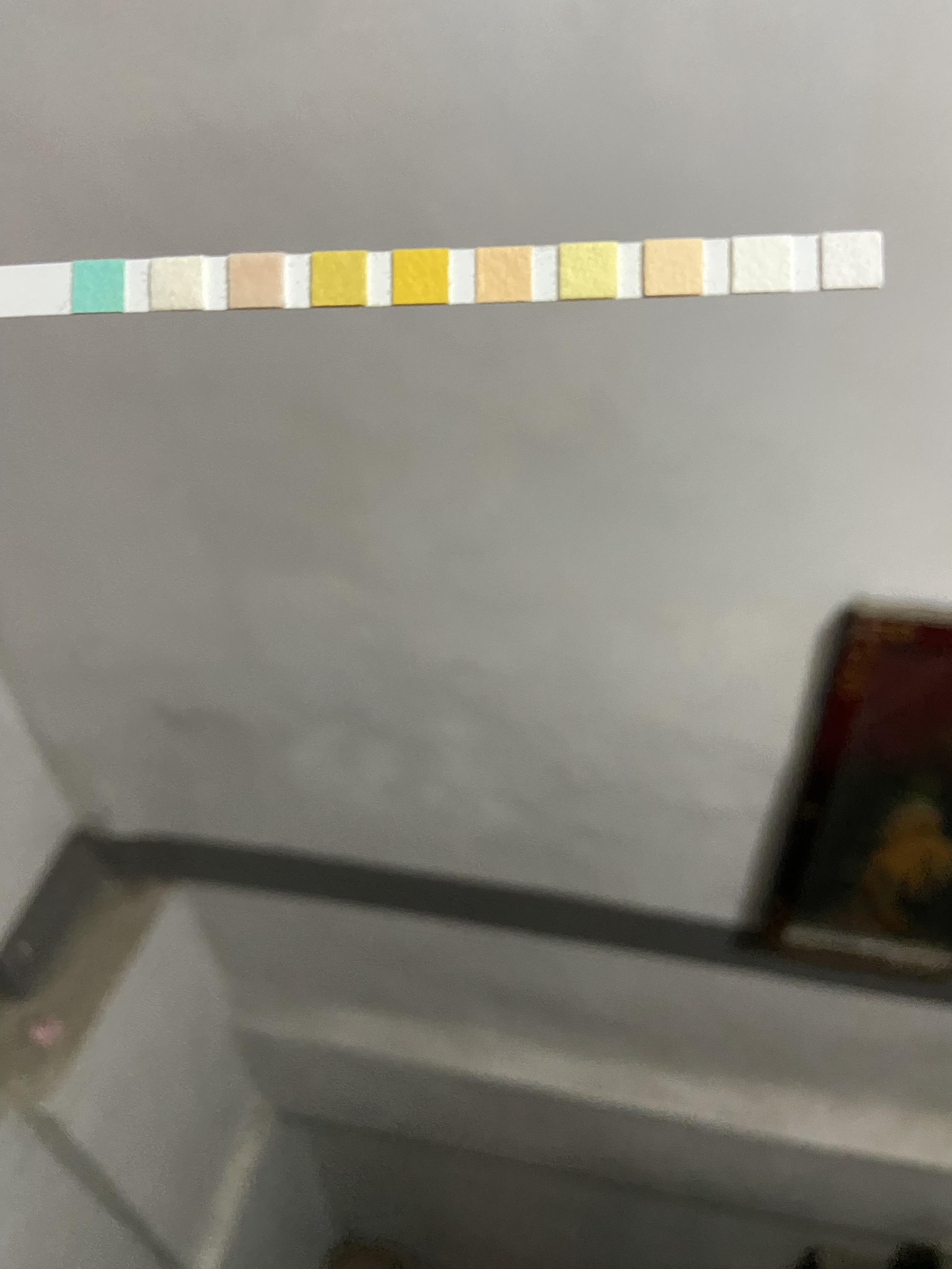Bilirubin: (153, 258, 199, 309)
Blood: (395, 249, 448, 303)
Glucose: (73, 262, 124, 312)
Ketone: (231, 255, 281, 308)
Leukocytes: (824, 233, 880, 288)
Nitrite: (734, 238, 789, 290)
Protein: (561, 244, 615, 297)
SpGravity: (313, 252, 366, 305)
Urobilinogen: (645, 240, 702, 295)
pH: (478, 248, 531, 302)
strip: (1, 232, 885, 319)
